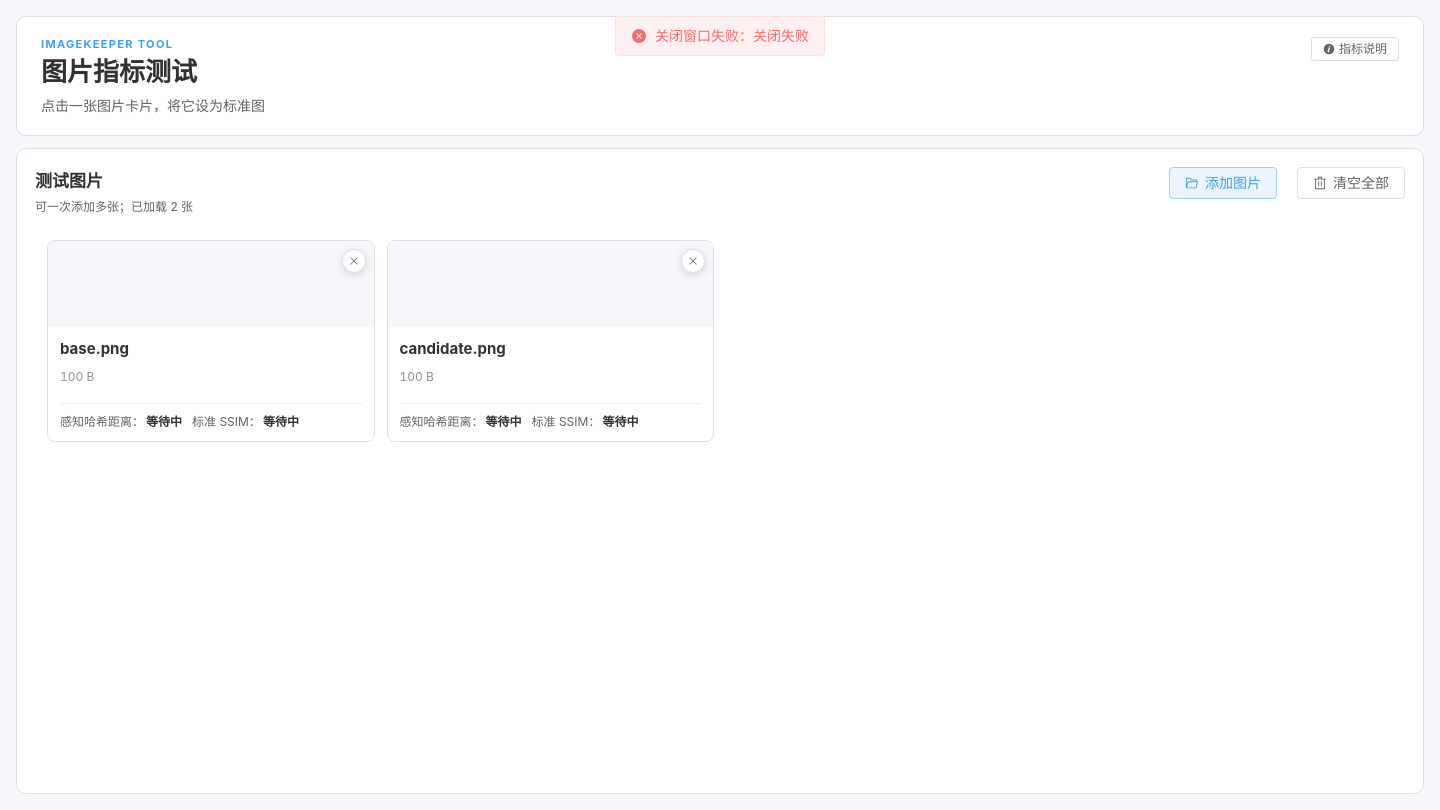
Test case: ImageMetricsTestView › automatically computes the unified standard ssim after selecting a baseline
Click the button with test id "card-0" at (211, 284), box top-left (47, 240), bottom-right (374, 442)
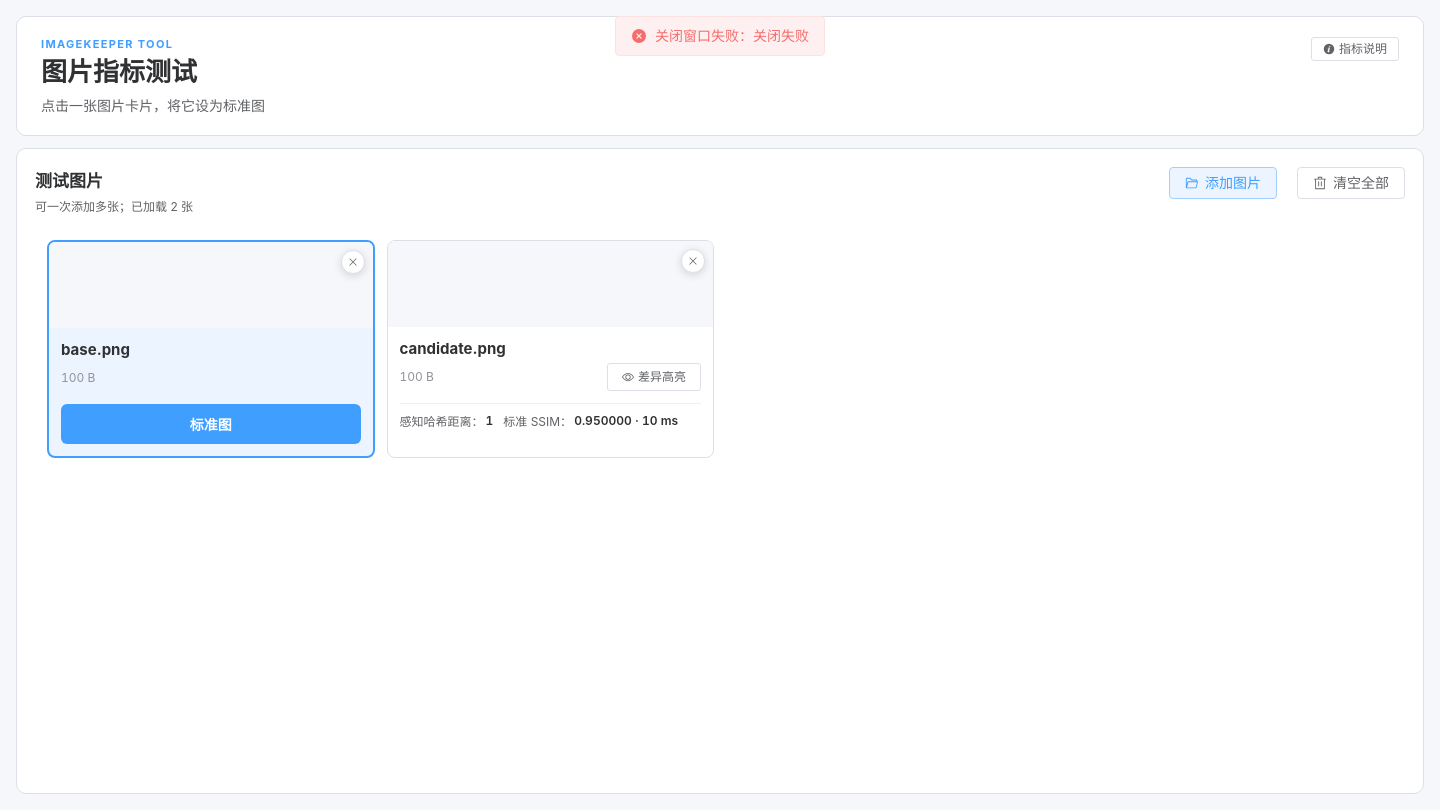
Expected: the text "0.950000 · 10 ms" is shown, top-left (574, 413), bottom-right (678, 428)
